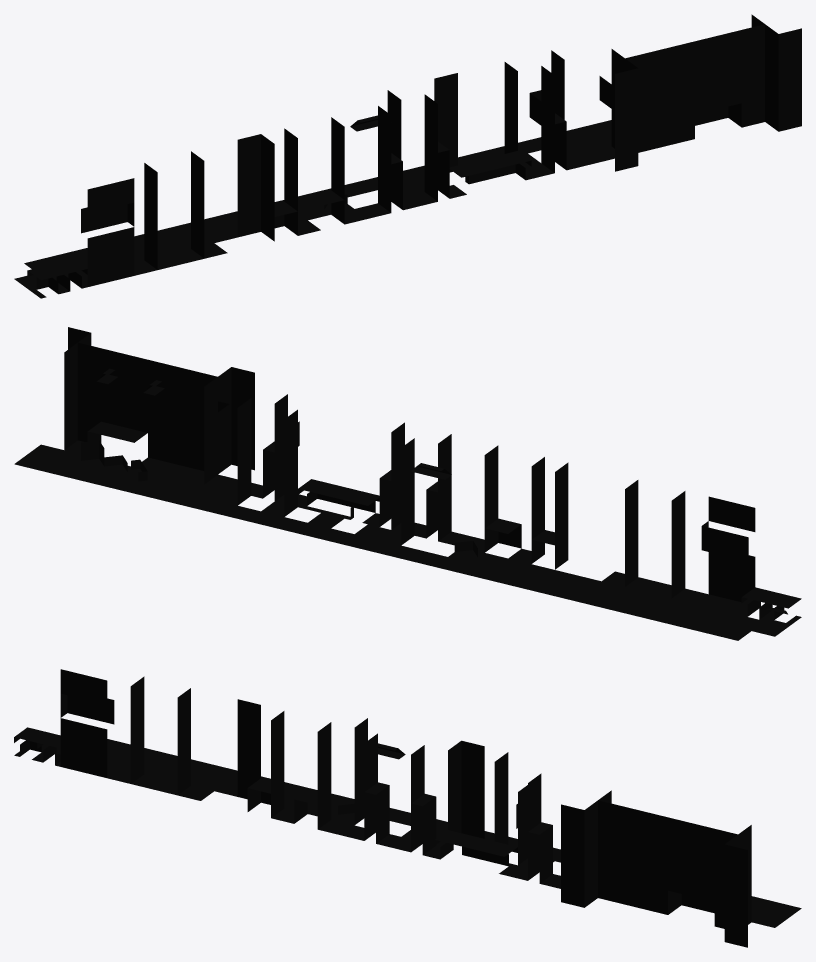
The model's file is catalog.obj.
3 views of the same model, one above another, from view 1: azimuth 30°, elevation 25°; view 2: azimuth 150°, elevation 25°; view 3: azimuth 330°, elevation 25° (orthographic).
Visible parts, largest first — view 1: cell_1_0, cell_6_0, cell_22_0, cell_28_0, cell_5_0, cell_4_0, cell_29_0, cell_2_0, cell_14_0, cell_3_0, cell_13_1, cell_25_0 (+18 smaller); view 2: cell_6_0, cell_1_0, cell_5_0, cell_4_0, cell_28_0, cell_29_0, cell_2_0, cell_3_0, cell_25_0, cell_26_0, cell_7_0, cell_10_1 (+18 smaller); view 3: cell_6_0, cell_1_0, cell_13_1, cell_28_0, cell_29_0, cell_5_0, cell_4_0, cell_3_0, cell_14_0, cell_22_0, cell_2_0, cell_26_0 (+18 smaller).
Part boxes in pixels (<box>): cell_1_0: <box>741,14,801,131</box>; cell_6_0: <box>611,49,648,171</box>; cell_22_0: <box>237,134,274,241</box>; cell_28_0: <box>104,178,134,281</box>; cell_5_0: <box>648,47,671,150</box>; cell_4_0: <box>671,41,694,144</box>; cell_29_0: <box>81,184,110,286</box>; cell_2_0: <box>705,30,741,127</box>; cell_14_0: <box>424,94,460,200</box>; cell_3_0: <box>695,35,718,125</box>; cell_13_1: <box>434,73,457,172</box>; cell_25_0: <box>168,151,204,264</box>; cell_6_0: <box>181,367,254,484</box>; cell_1_0: <box>64,327,101,454</box>; cell_5_0: <box>158,365,194,478</box>; cell_4_0: <box>142,359,171,472</box>; cell_28_0: <box>695,496,731,609</box>; cell_29_0: <box>718,502,755,615</box>; cell_2_0: <box>87,348,124,442</box>; cell_3_0: <box>111,354,147,442</box>; cell_25_0: <box>625,480,661,592</box>; cell_26_0: <box>648,491,685,598</box>; cell_7_0: <box>204,377,237,489</box>; cell_10_1: <box>261,409,297,516</box>; cell_6_0: <box>561,790,621,907</box>; cell_1_0: <box>714,825,751,947</box>; cell_13_1: <box>448,740,484,838</box>; cell_28_0: <box>84,675,120,778</box>; cell_29_0: <box>60,669,90,772</box>; cell_5_0: <box>621,806,644,909</box>; cell_4_0: <box>644,812,667,914</box>; cell_3_0: <box>668,817,704,914</box>; cell_14_0: <box>411,745,440,857</box>; cell_22_0: <box>237,699,260,799</box>; cell_2_0: <box>691,823,714,913</box>; cell_26_0: <box>130,676,166,789</box>.
Bounding box in the file's own units: 0.5 × 0.0625 × 0.0625.
Materials: 39 (39 with a texture image).
